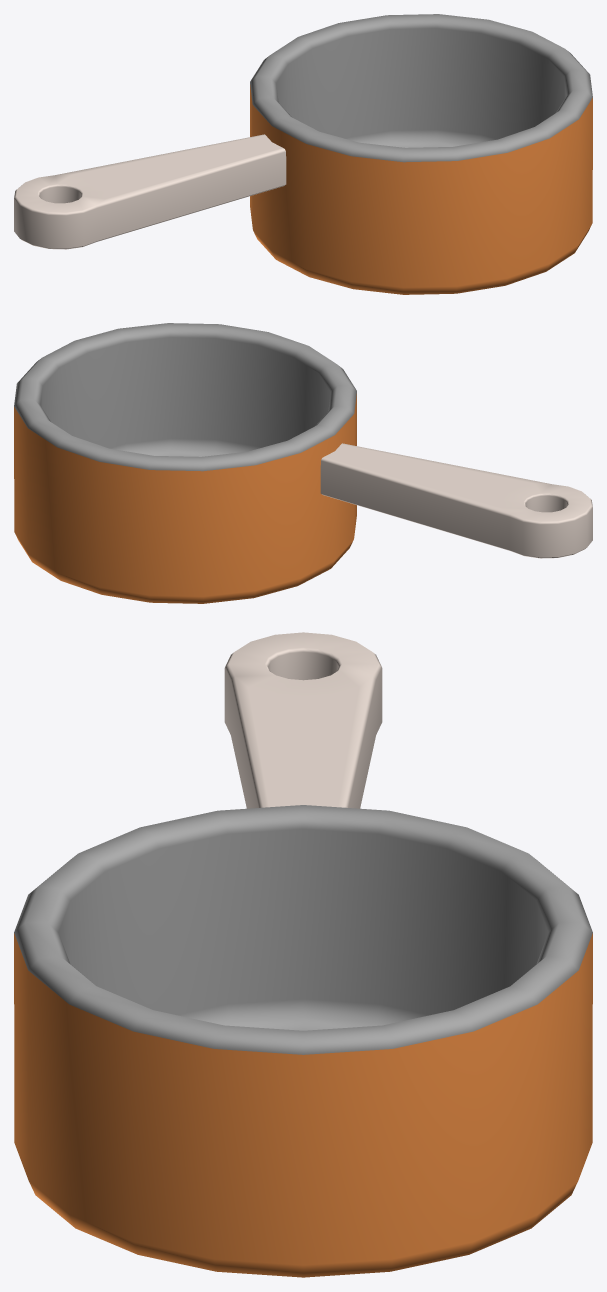
Rendered from Pot_orange.glb.
3 views of the same model, one above another, from view 1: azimuth 30°, elevation 25°; view 2: azimuth 150°, elevation 25°; view 3: azimuth 270°, elevation 25° (orthographic). The views are drawn at different scales.
Parts seen in each view (by area): view 1: Pot_2; view 2: Pot_2; view 3: Pot_2.
Part boxes in pixels (x1,y1,x2,y2): Pot_2: (14,14,592,294); Pot_2: (14,323,592,603); Pot_2: (14,632,592,1277).
Size of the model in its own units: 0.8635 by 0.2163 by 0.4683.
Materials: 1 (1 with a texture image).
